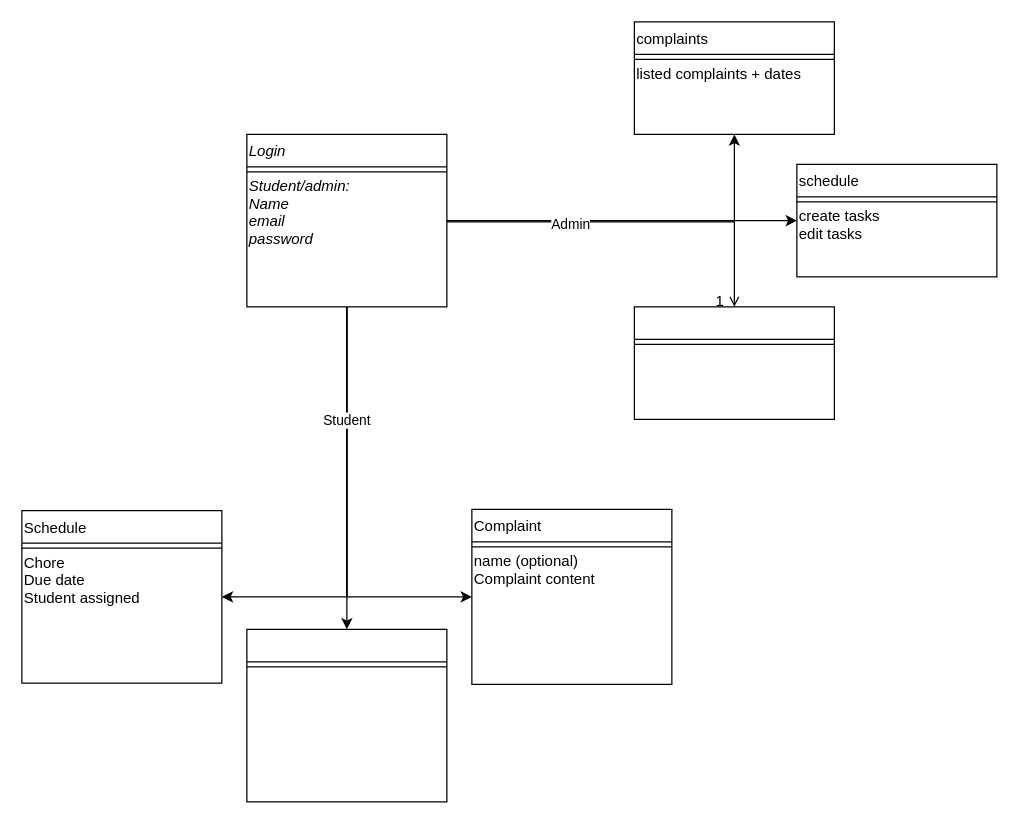
This 1019x824 diagram has some shape labels left out. Each missing label, with the centre of its shape:
House rules edit house rules add house rules remove house rules: (733,362)
House rules listed rules: (346,715)
